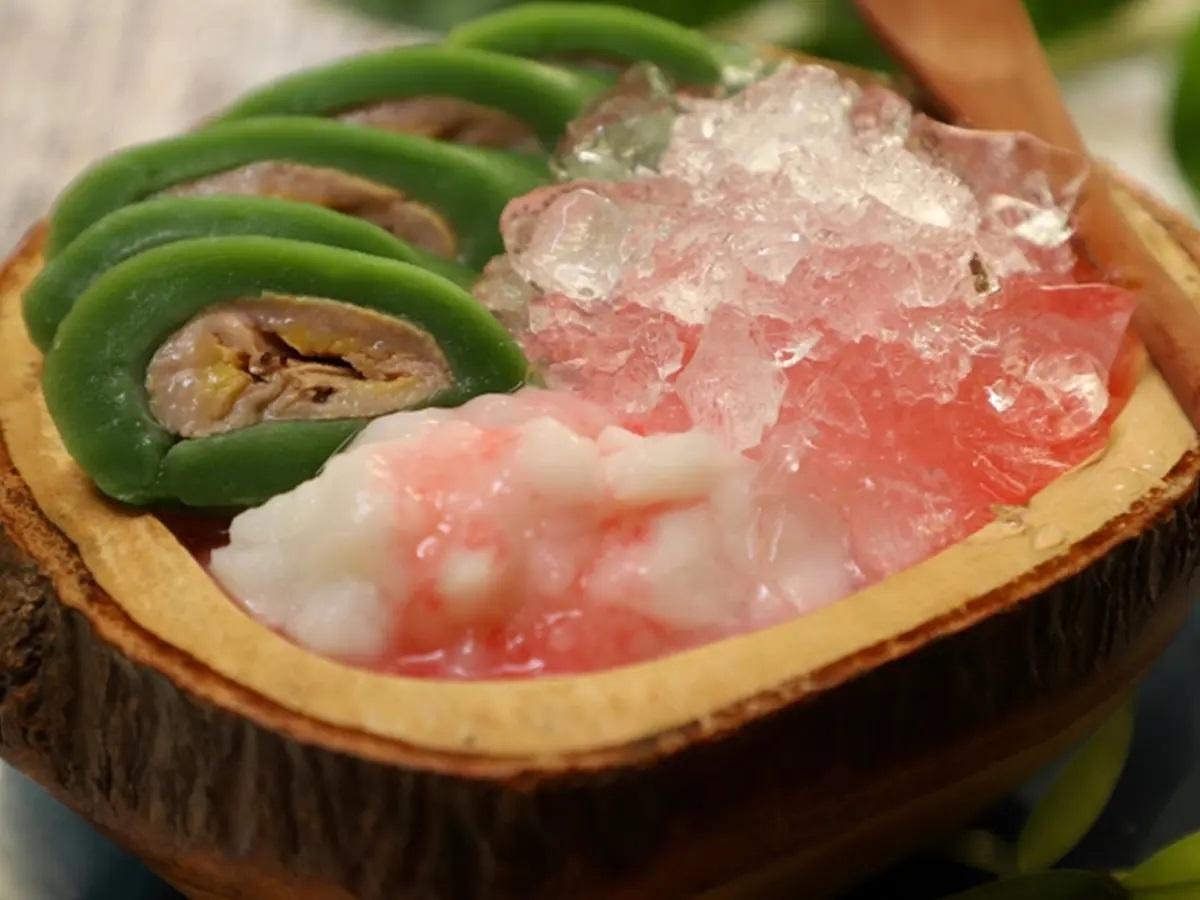pisang_ijo: (87, 216, 500, 517)
